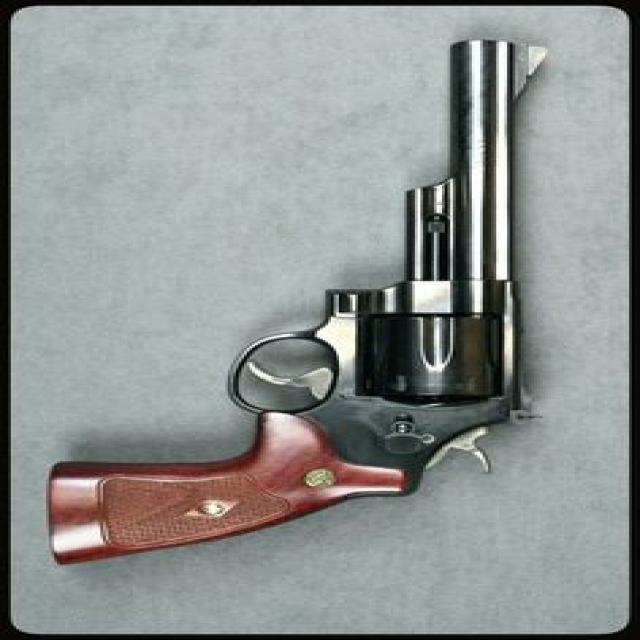revolver: (16, 17, 615, 625)
